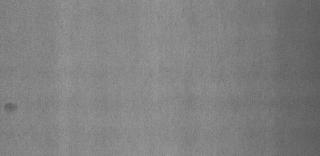oil spot: (4, 100, 18, 116)
